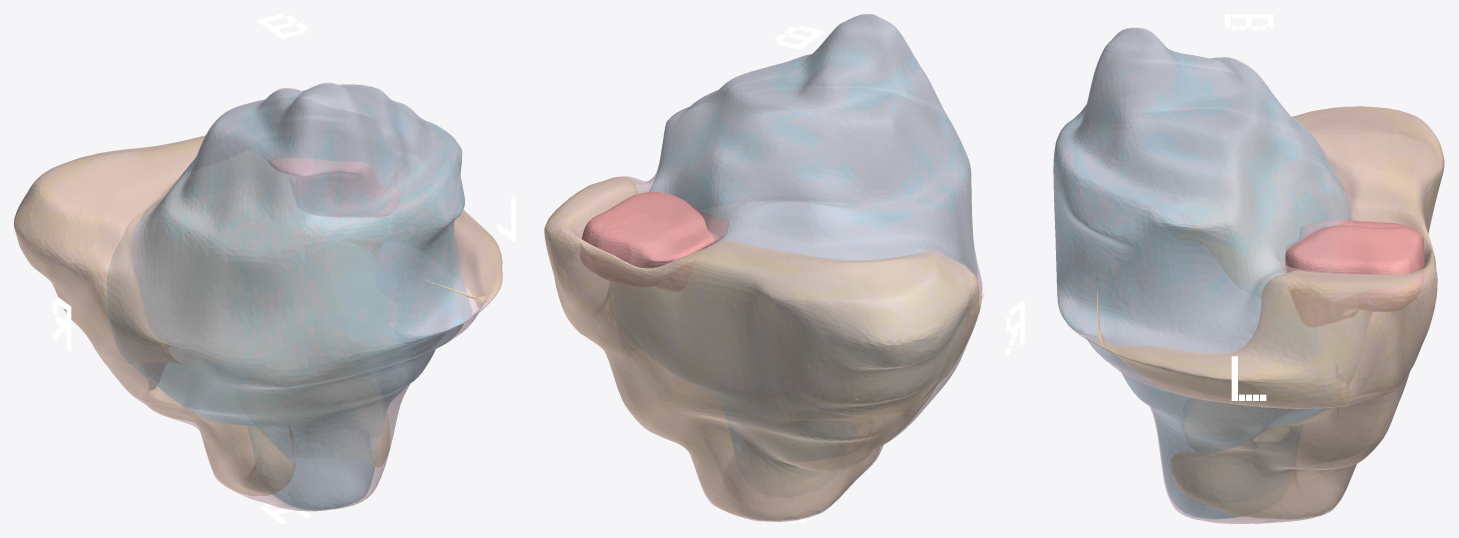
The picture shows the model from 3 angles, left to right: view 1: azimuth 30°, elevation 25°; view 2: azimuth 150°, elevation 25°; view 3: azimuth 270°, elevation 25°; orthographic projection. The views are drawn at different scales.
Visible parts, largest first — view 1: prostate_gland, transition_zone, peripheral_zone, lesion_01, pv_ar_marker_R, pv_ar_marker_B; view 2: prostate_gland, peripheral_zone, transition_zone, lesion_01, pv_ar_marker_B, pv_ar_marker_R; view 3: prostate_gland, transition_zone, peripheral_zone, lesion_01, pv_ar_marker_B, pv_ar_marker_L.
Part boxes in pixels (<box>): prostate_gland: <box>14,82,502,511</box>; transition_zone: <box>107,84,472,510</box>; peripheral_zone: <box>14,135,502,495</box>; lesion_01: <box>268,158,399,217</box>; pv_ar_marker_R: <box>52,297,71,350</box>; pv_ar_marker_B: <box>257,14,307,38</box>; prostate_gland: <box>544,14,982,521</box>; peripheral_zone: <box>544,177,984,520</box>; transition_zone: <box>649,15,977,458</box>; lesion_01: <box>580,192,728,291</box>; pv_ar_marker_B: <box>774,25,823,49</box>; pv_ar_marker_R: <box>1006,300,1024,355</box>; prostate_gland: <box>1053,27,1444,523</box>; transition_zone: <box>1053,28,1358,518</box>; peripheral_zone: <box>1095,106,1444,519</box>; lesion_01: <box>1285,220,1424,326</box>; pv_ar_marker_B: <box>1224,14,1273,30</box>; pv_ar_marker_L: <box>1231,356,1266,400</box>.
Bounding box in the file's own units: 0.0568 × 0.0592 × 0.0424.
